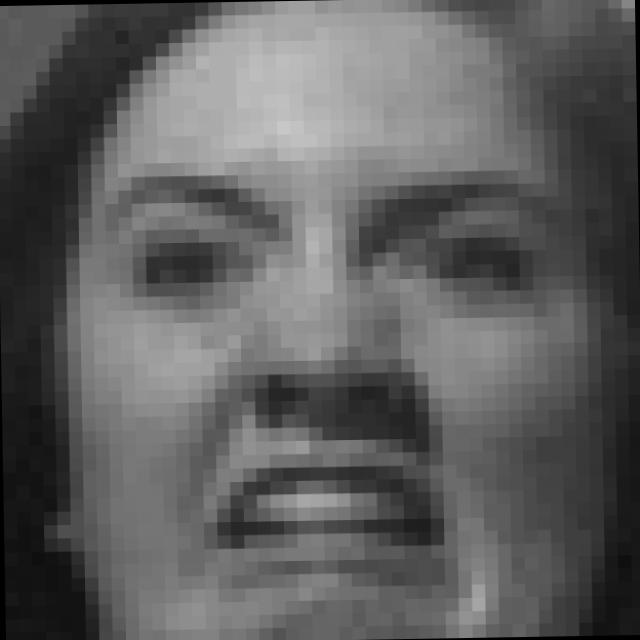disgust: (104, 167, 563, 616)
